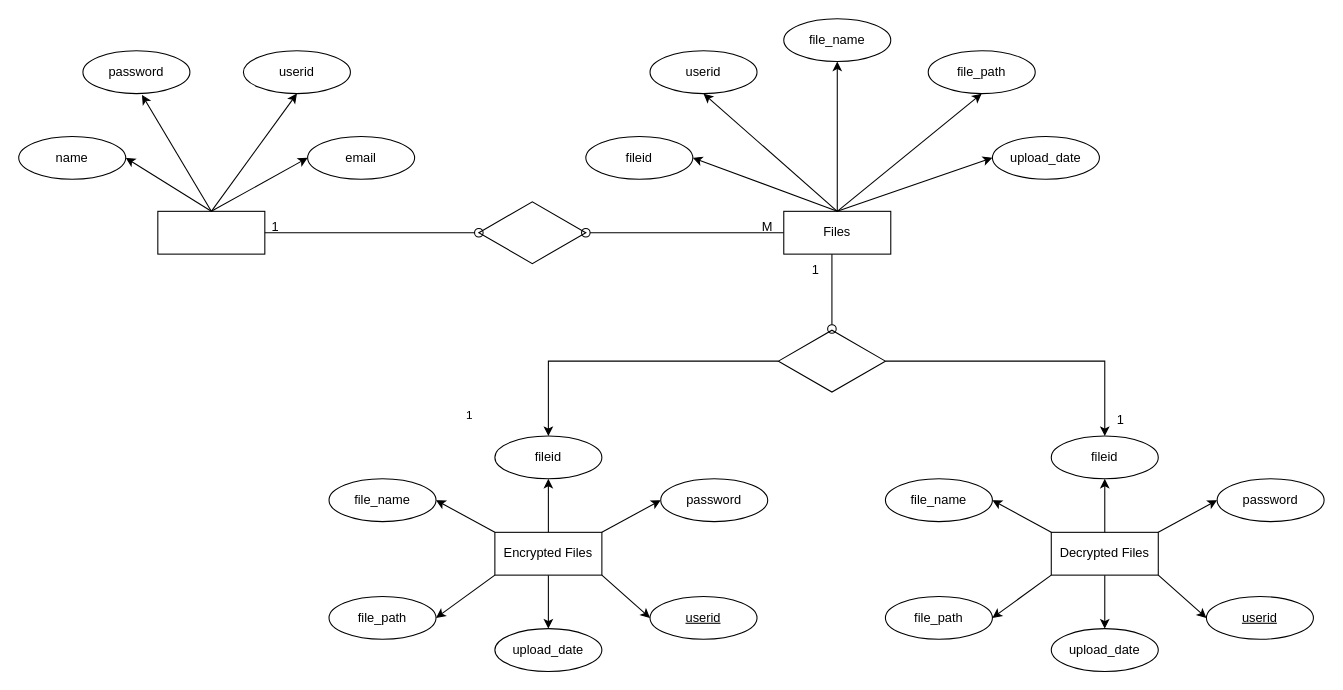
The diagram is 1343 pixels wide and 690 high, and some of its shapes have lost their labels. Here are the shapes that lost their labels. From the top down, the centre of each, then its label:
At [211,232]: "User".
At [532,232]: "uploads".
At [831,360]: "has".
